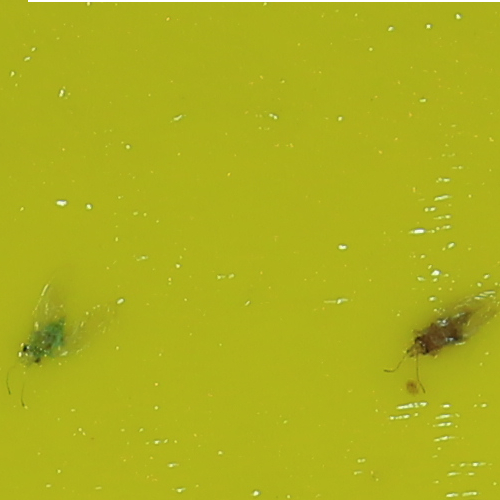Glycaspis: (405, 306, 475, 355), (21, 315, 68, 361)
